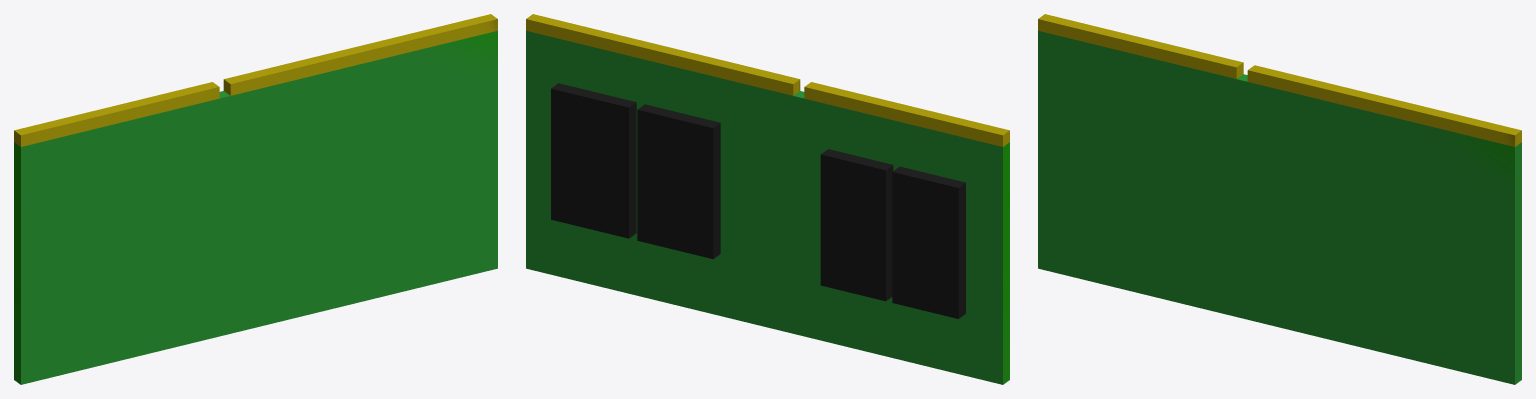
File: RAM.dae
3 views of the same model, side by side, from view 1: azimuth 30°, elevation 25°; view 2: azimuth 150°, elevation 25°; view 3: azimuth 330°, elevation 25° (orthographic).
Visible parts, largest first — view 1: RAM, RAM_002, RAM_001; view 2: RAM, RAM_003, RAM_002, RAM_001; view 3: RAM, RAM_002, RAM_001.
Part boxes in pixels (<box>): RAM: <box>14,30,497,384</box>; RAM_002: <box>223,14,497,95</box>; RAM_001: <box>14,82,219,146</box>; RAM: <box>526,30,1009,384</box>; RAM_003: <box>551,83,965,318</box>; RAM_002: <box>526,14,800,95</box>; RAM_001: <box>804,82,1009,146</box>; RAM: <box>1038,30,1521,384</box>; RAM_002: <box>1247,65,1521,146</box>; RAM_001: <box>1038,14,1243,78</box>.
Bounding box in the file's own units: 4 × 0.2086 × 2.
4 materials, 4 textured.
